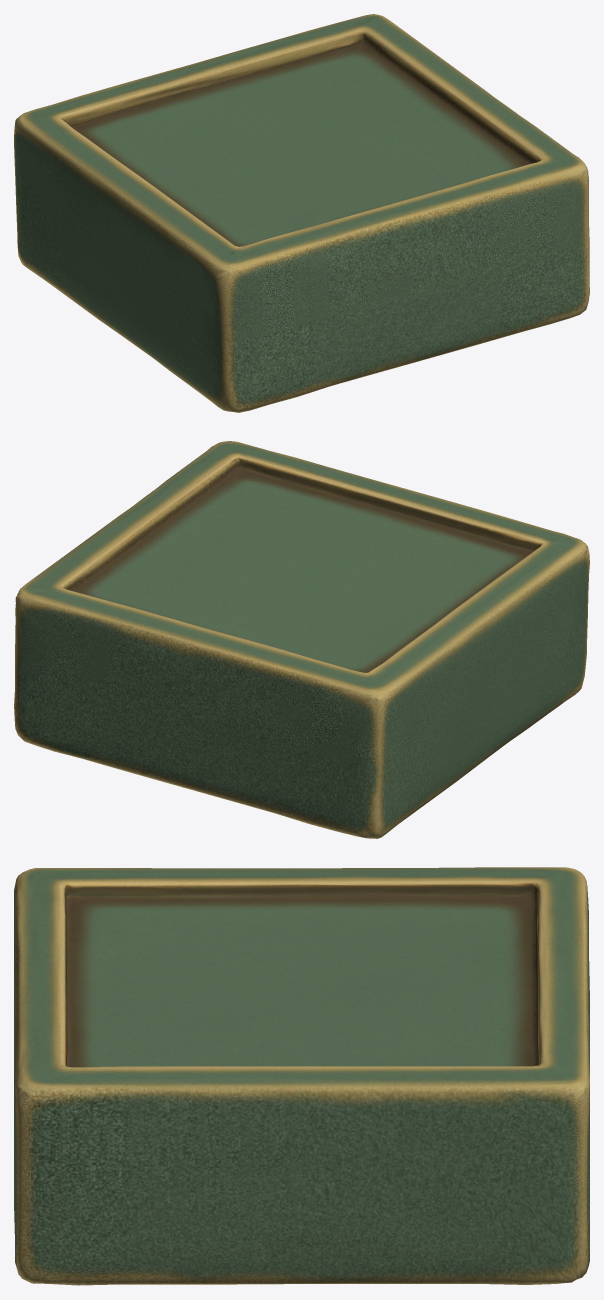
Rendered from tripo_convert_c2ba91ee-8bb9-4dc5-8786-83af84e14941.fbx.
3 views of the same model, one above another, from view 1: azimuth 30°, elevation 25°; view 2: azimuth 150°, elevation 25°; view 3: azimuth 270°, elevation 25° (orthographic). The views are drawn at different scales.
Parts seen in each view (by area): view 1: tripo_node_c2ba91ee; view 2: tripo_node_c2ba91ee; view 3: tripo_node_c2ba91ee.
Part boxes in pixels (x1,y1,x2,y2): tripo_node_c2ba91ee: (14,14,589,412); tripo_node_c2ba91ee: (14,441,589,838); tripo_node_c2ba91ee: (14,867,589,1285).
Bounding box in the file's own units: 0.998 × 0.4238 × 0.998.
Materials: 1 (1 with a texture image).
